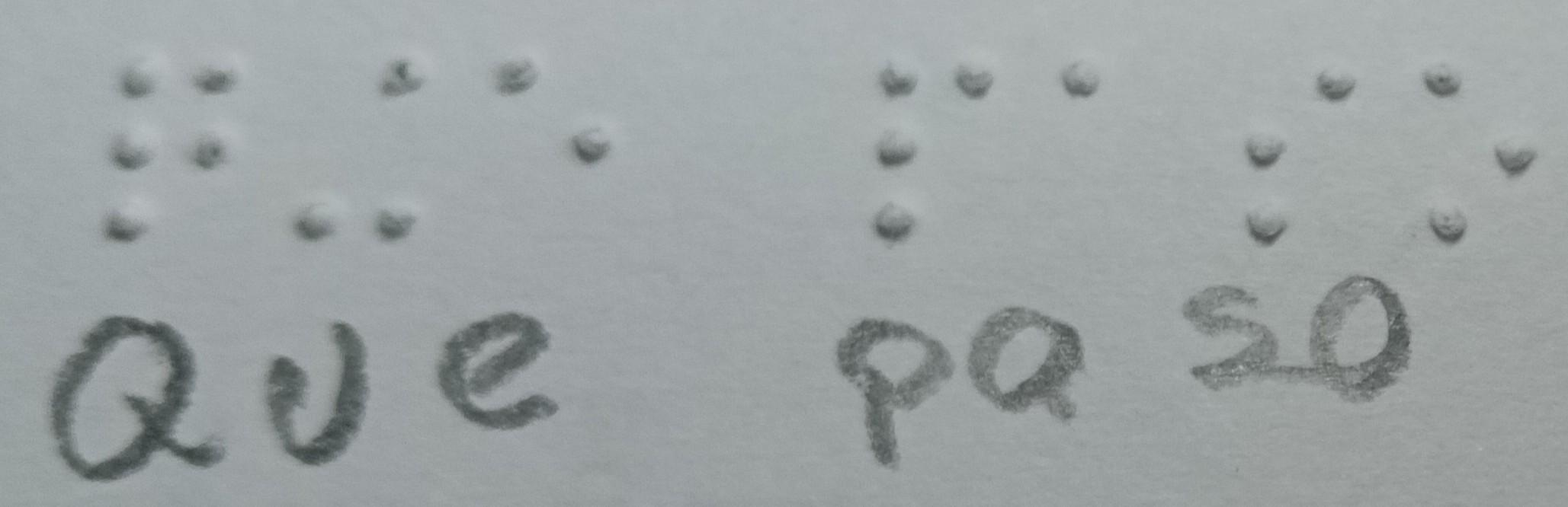a: (1002, 32, 1145, 137)
e: (469, 46, 616, 255)
o: (1370, 32, 1547, 257)
p: (825, 34, 1006, 284)
q: (84, 46, 252, 253)
s: (1193, 36, 1368, 255)
u: (273, 49, 442, 259)
